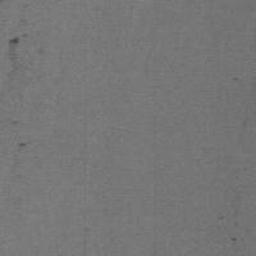Inclusion: (6, 35, 22, 69), (19, 18, 29, 28), (35, 47, 45, 56), (17, 141, 27, 148), (23, 1, 31, 9)
